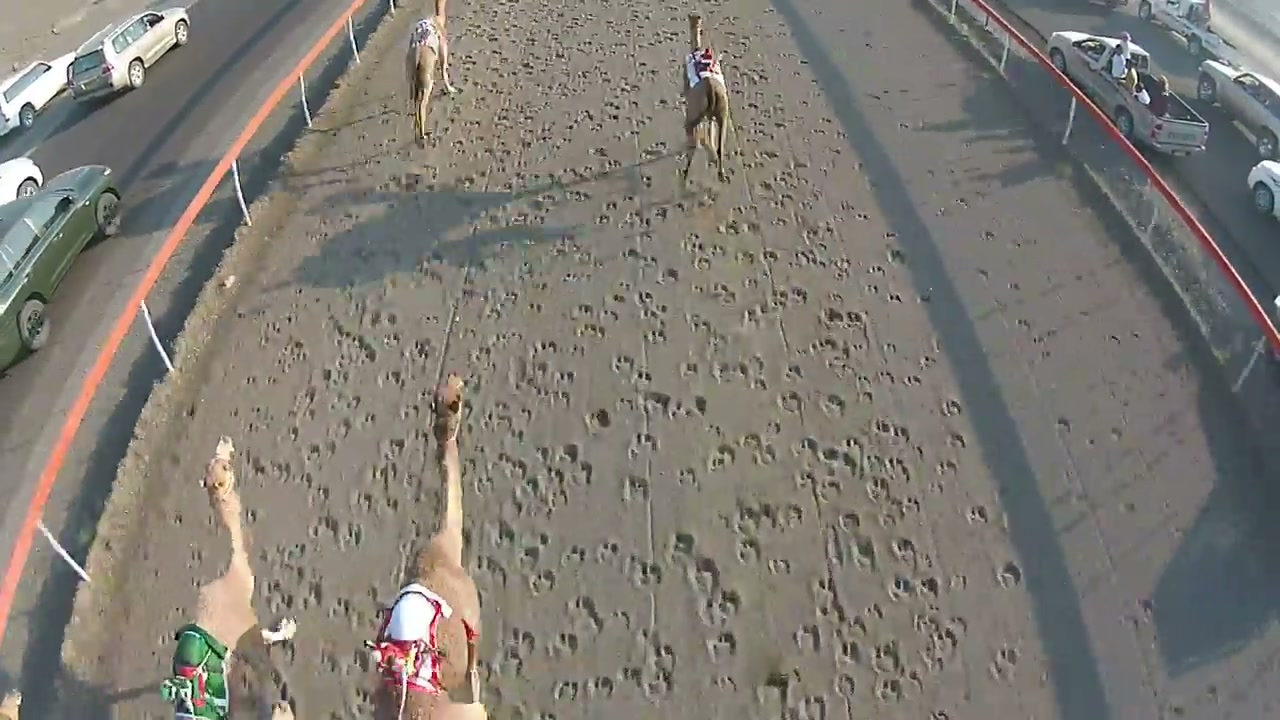animal_foot_print: (440, 126, 951, 709), (209, 72, 562, 719)
